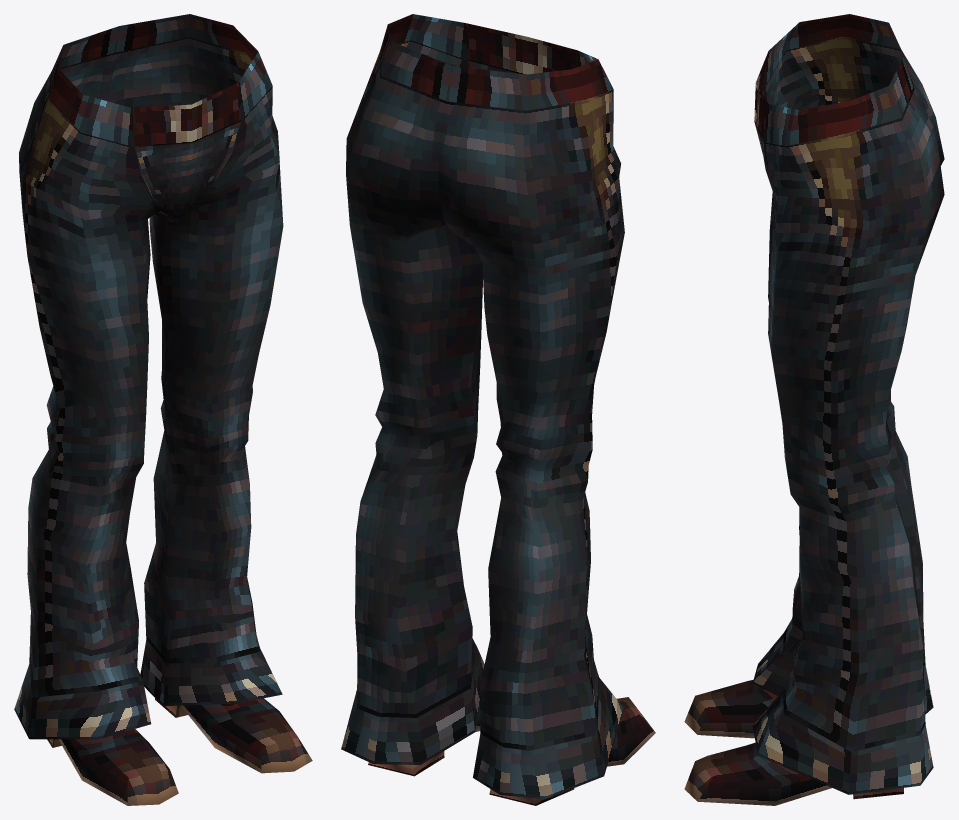
File: f_reg118.glb
3 views of the same model, side by side, from view 1: azimuth 30°, elevation 25°; view 2: azimuth 150°, elevation 25°; view 3: azimuth 270°, elevation 25° (orthographic). The views are drawn at different scales.
Size of the model in its own units: 41.81 by 110 by 37.04.
Materials: 1 (1 with a texture image).
